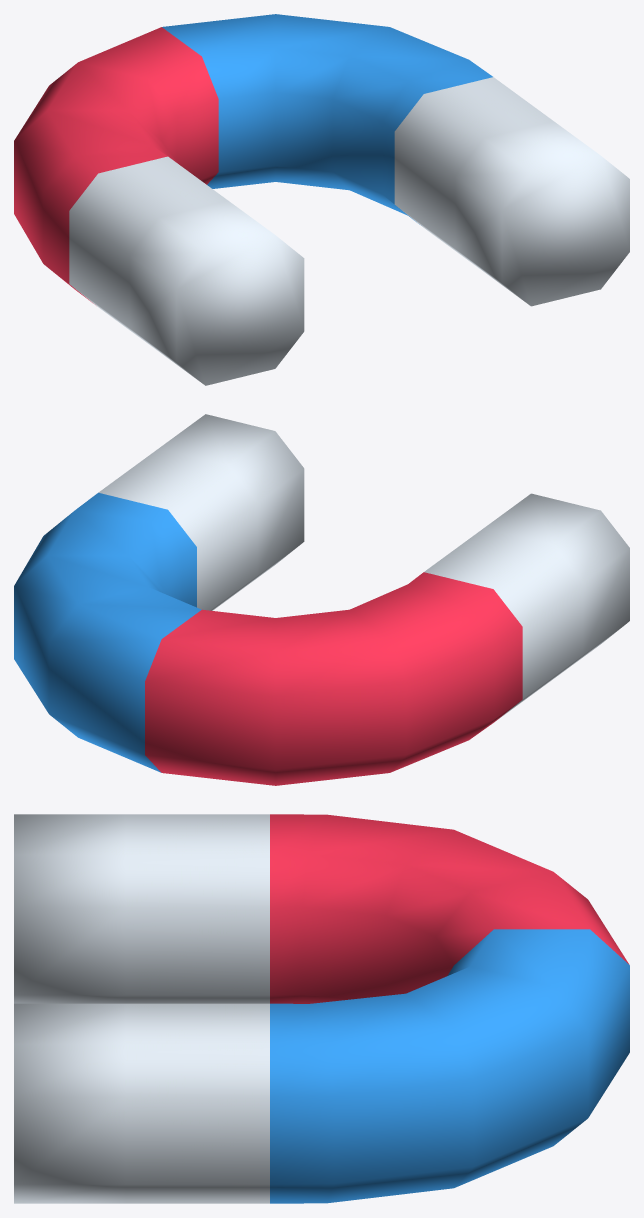
The model's file is core_04_magnet.glb.
3 views of the same model, one above another, from view 1: azimuth 30°, elevation 25°; view 2: azimuth 150°, elevation 25°; view 3: azimuth 270°, elevation 25° (orthographic). The views are drawn at different scales.
Parts seen in each view (by area): view 1: CORE_04_Magnet; view 2: CORE_04_Magnet; view 3: CORE_04_Magnet.
Boxes of the visible parts, x1,y1,x2,y2 form: CORE_04_Magnet: (14, 14, 629, 385); CORE_04_Magnet: (14, 414, 629, 785); CORE_04_Magnet: (14, 814, 629, 1203).
Bounding box in the file's own units: 0.78 × 0.22 × 0.77.
1 material, 1 textured.
